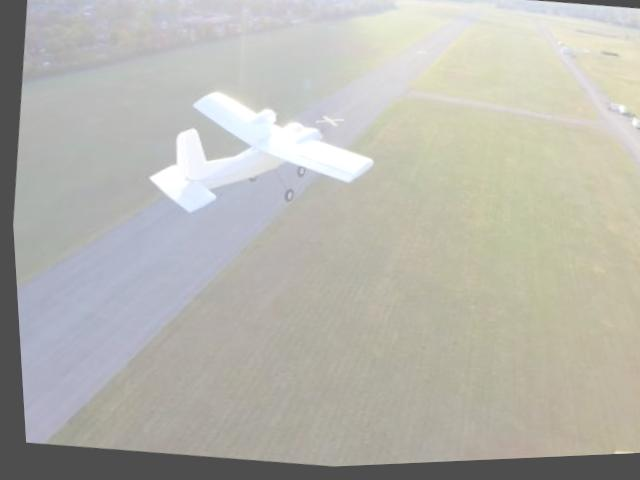uav: (136, 79, 380, 230)
